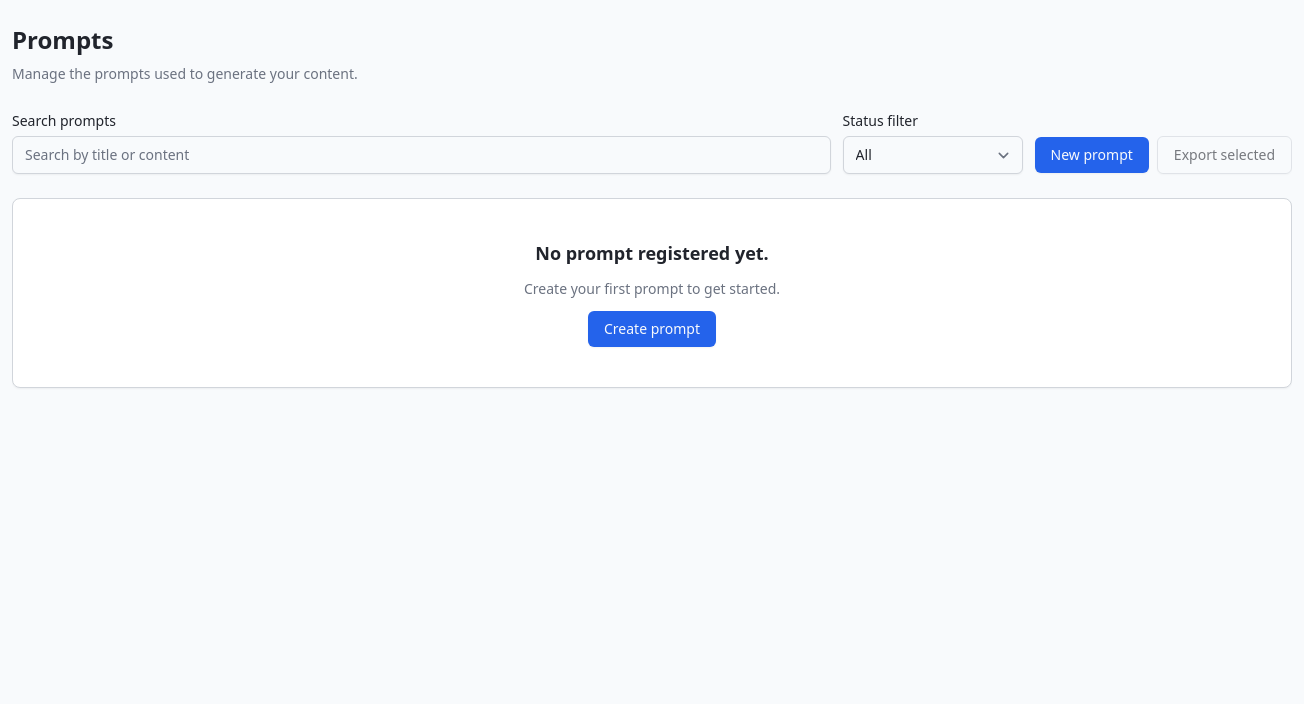
Test: PromptsPage › creates a new prompt successfully
The image size is (1304, 704).
Click the button "New prompt" at (1092, 155), box [1035, 137, 1149, 173]
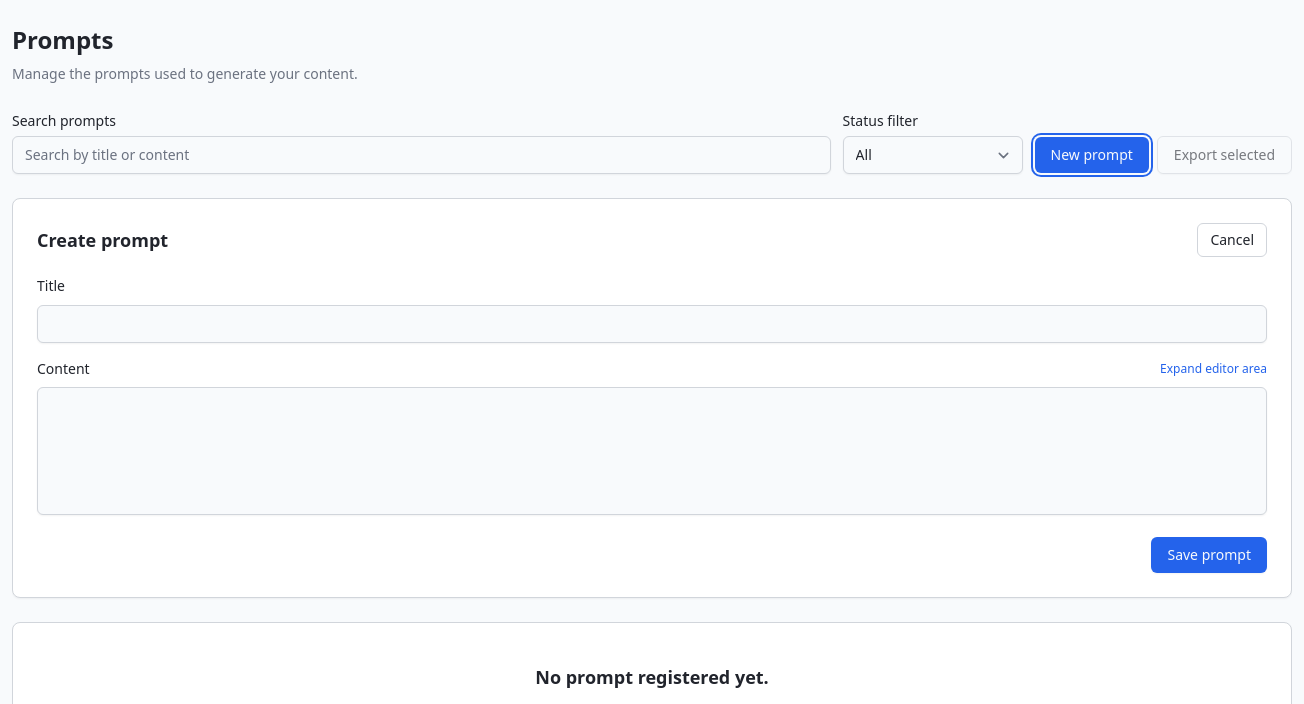
Type "Growth update" into the field labelled "Title" at (652, 324), box [37, 305, 1267, 343]
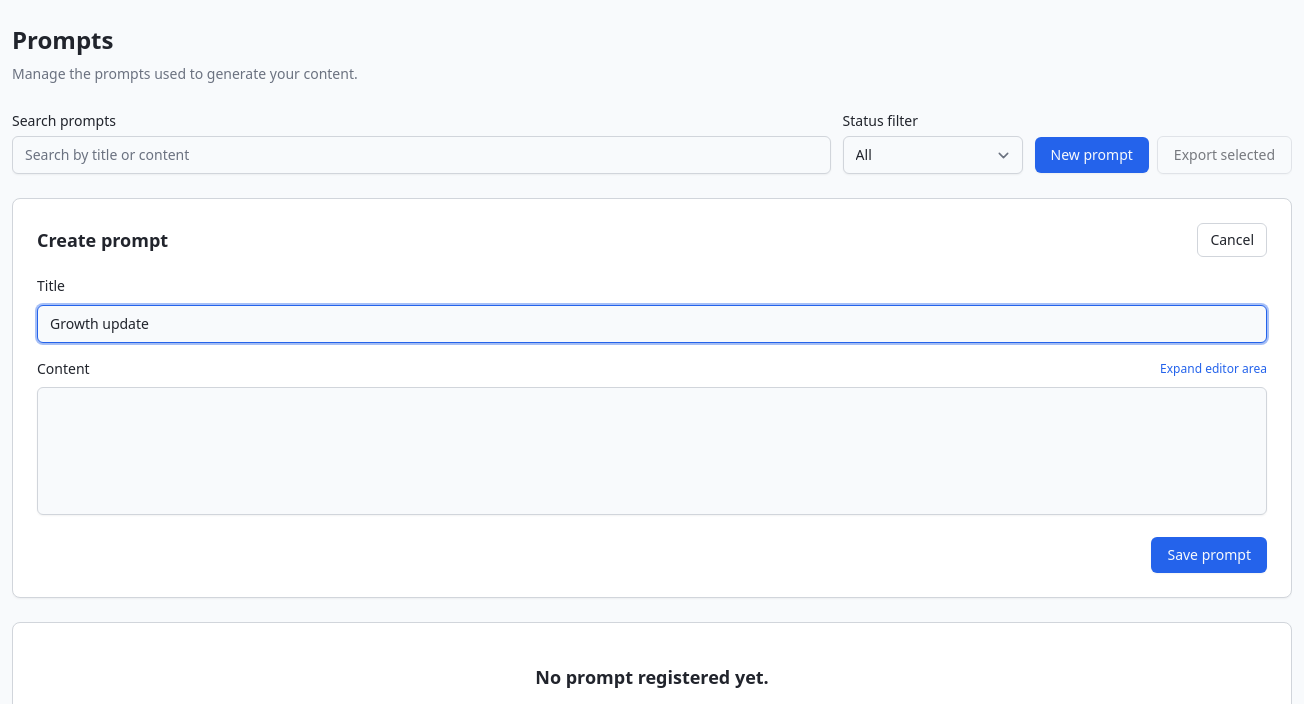
Type "Share quarterly growth metrics and key learnings." into the text box labelled "Content" at (652, 451), box [37, 387, 1267, 515]
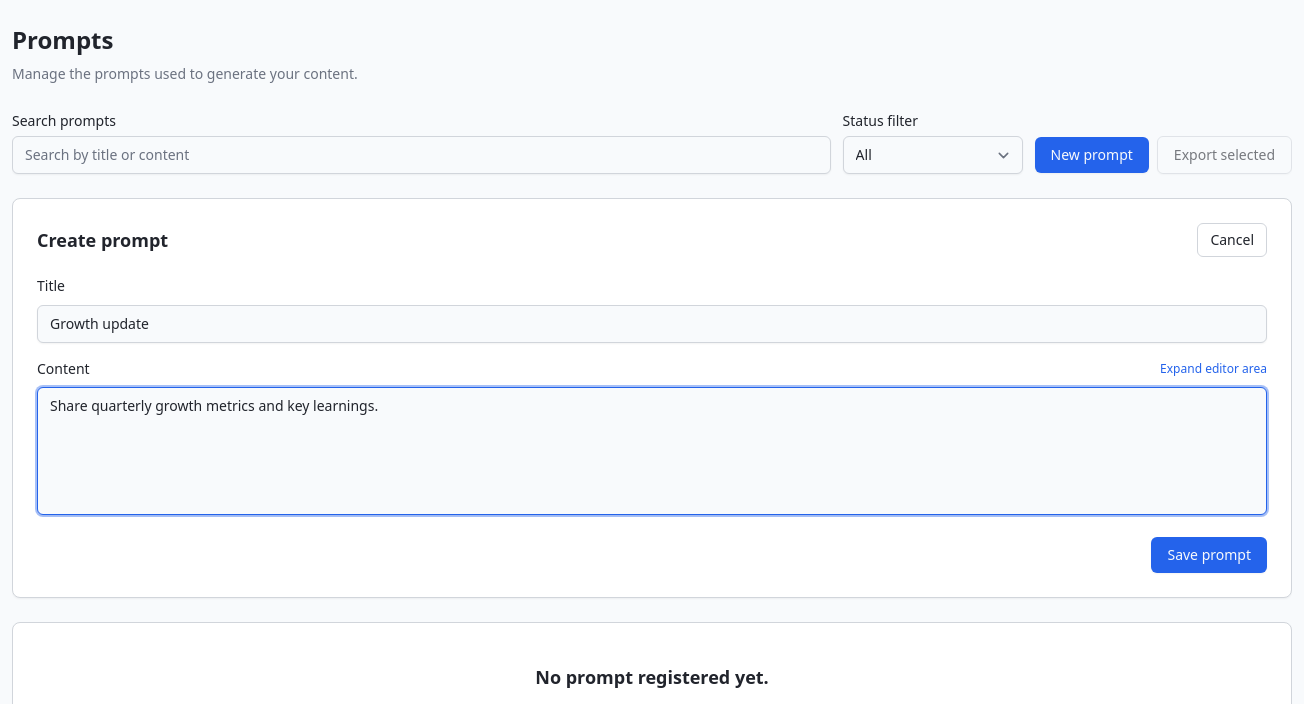
Click the button "Save prompt" at (1209, 555), box [1152, 537, 1267, 573]
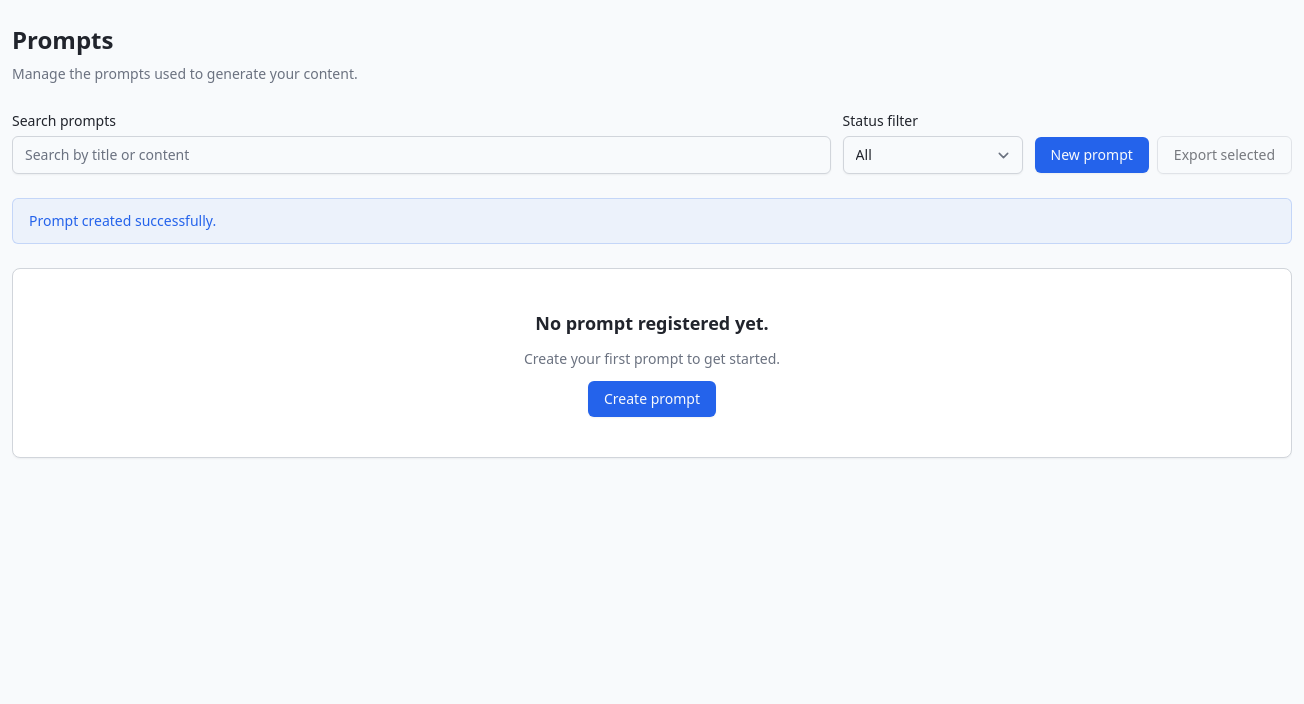
Now the text "Prompt created successfully." is shown, box [29, 211, 216, 231]
